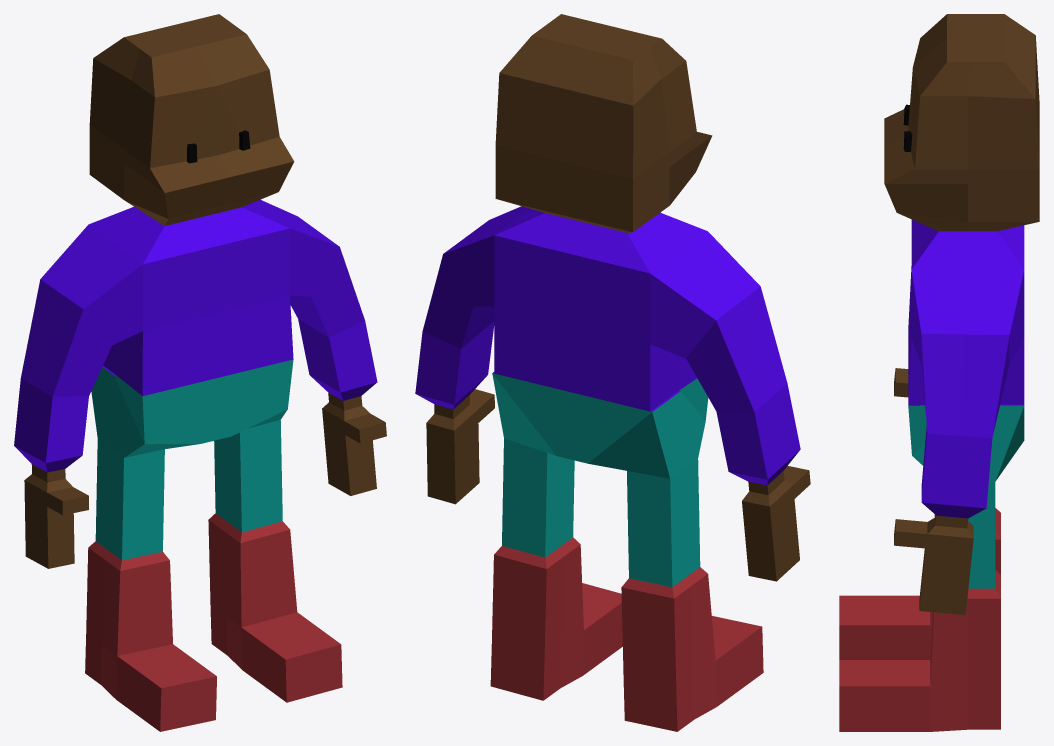
The model's file is Human2.fbx.
The picture shows the model from 3 angles, left to right: view 1: azimuth 30°, elevation 25°; view 2: azimuth 150°, elevation 25°; view 3: azimuth 270°, elevation 25°; orthographic projection. The views are drawn at different scales.
Parts seen in each view (by area): view 1: BaseHuman.001; view 2: BaseHuman.001; view 3: BaseHuman.001.
Boxes of the visible parts, left/top/right/bottom form: BaseHuman.001: left=14, top=14, right=386, bottom=731; BaseHuman.001: left=415, top=14, right=810, bottom=731; BaseHuman.001: left=839, top=14, right=1039, bottom=731.
Size of the model in its own units: 227 by 409 by 114.
